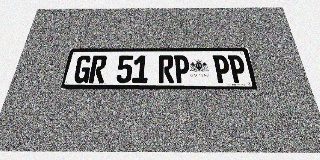1: (132, 55, 148, 83)
5: (116, 55, 133, 83)
G: (72, 56, 93, 83)
P: (227, 55, 248, 83), (212, 55, 231, 83), (174, 55, 190, 83)
R: (88, 55, 107, 83), (159, 55, 174, 83)
